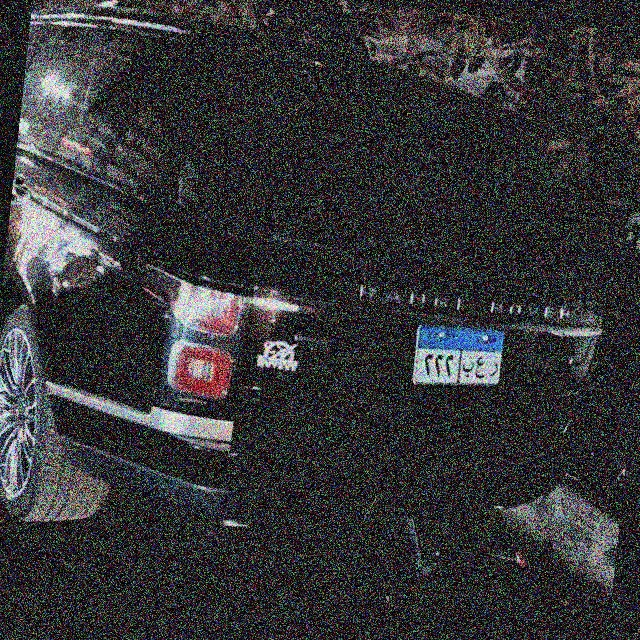License Plate: (408, 321, 507, 395)
